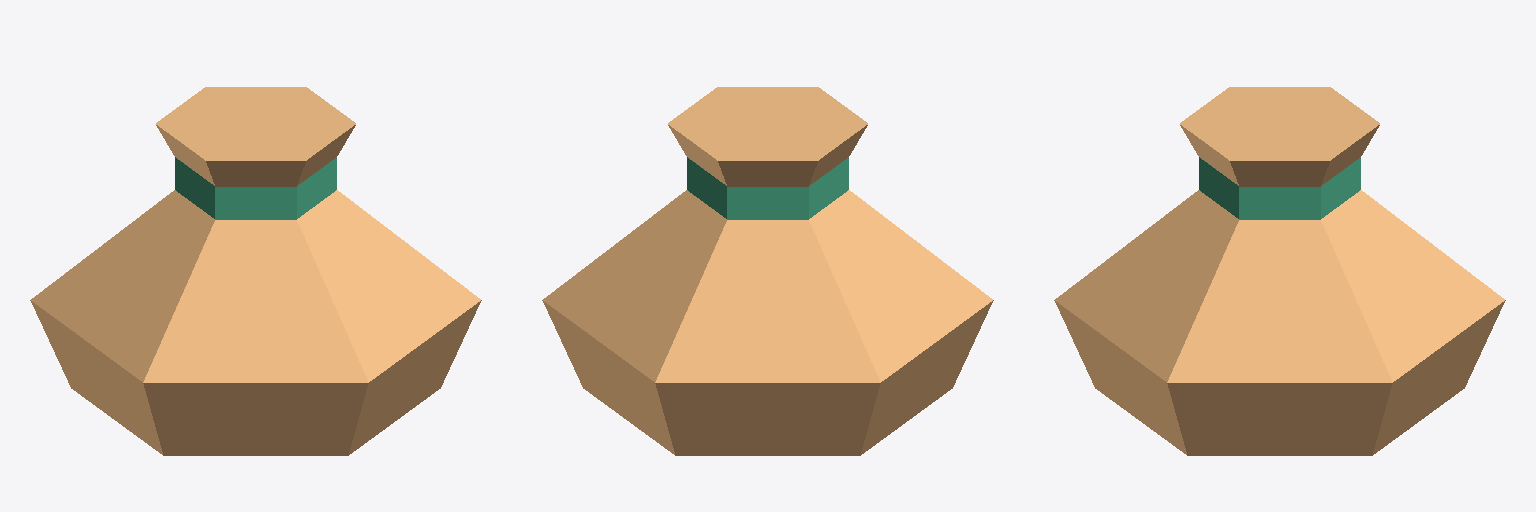
Rendered from dimSum.obj.
The picture shows the model from 3 angles: view 1: azimuth 30°, elevation 25°; view 2: azimuth 150°, elevation 25°; view 3: azimuth 270°, elevation 25°; orthographic projection.
Visible parts, largest first — view 1: dimSum; view 2: dimSum; view 3: dimSum.
Boxes of the visible parts, x1,y1,x2,y2 form: dimSum: [30, 87, 481, 455]; dimSum: [542, 87, 993, 455]; dimSum: [1054, 87, 1505, 455].
Bounding box in the file's own units: 0.1607 × 0.12 × 0.1856.